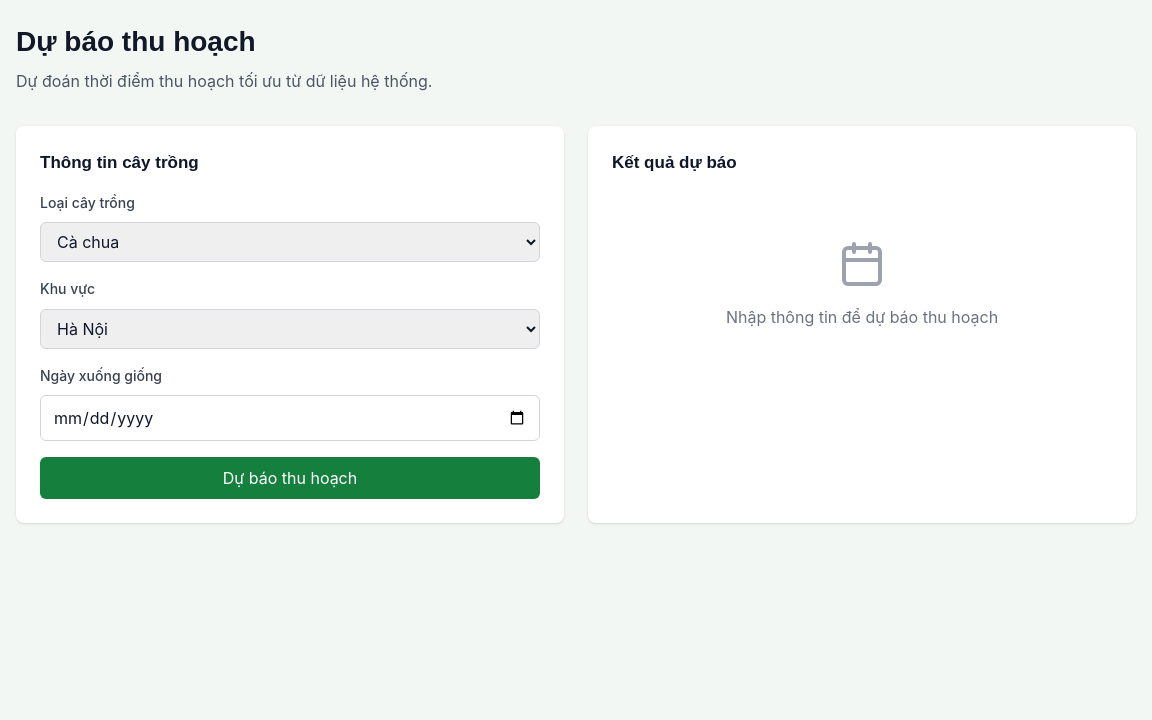
harvest forecast confidence › shows the confidence the backend reported
Type "2026-03-01" into the date field labelled "Ngày xuống giống".
click(290, 418); type("2026-03-01")  # box x1=40 y1=395 x2=540 y2=441
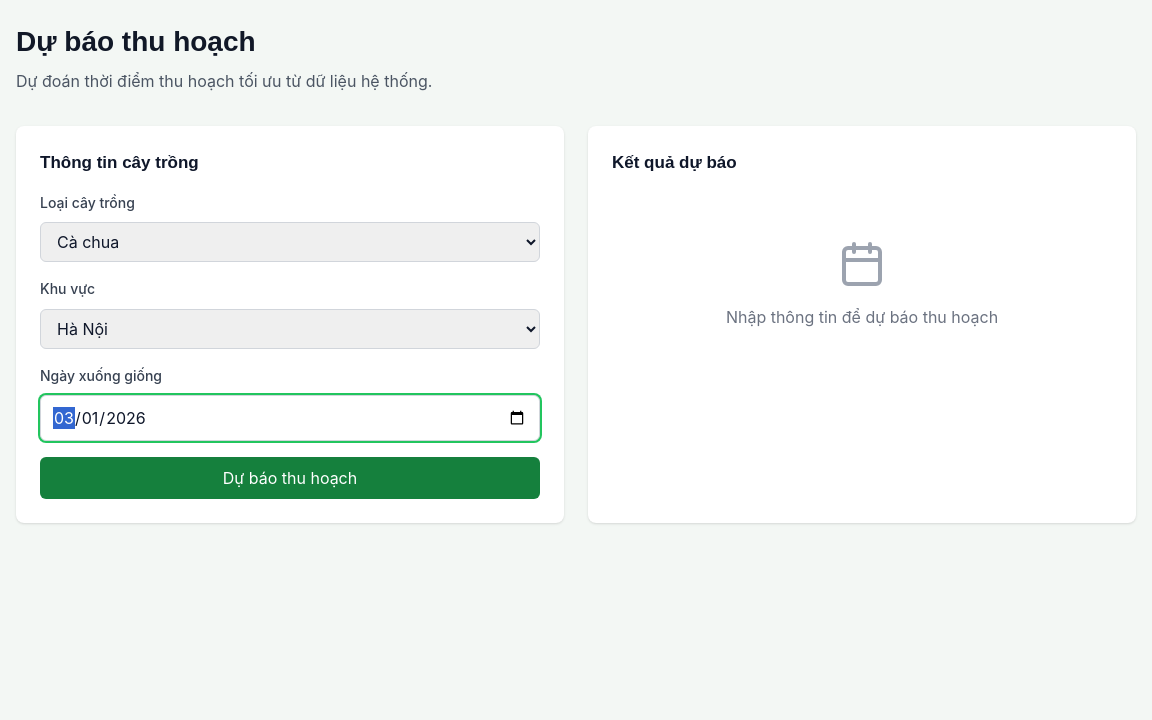
Click the button "Dự báo thu hoạch".
click(290, 478)  # box x1=40 y1=457 x2=540 y2=499
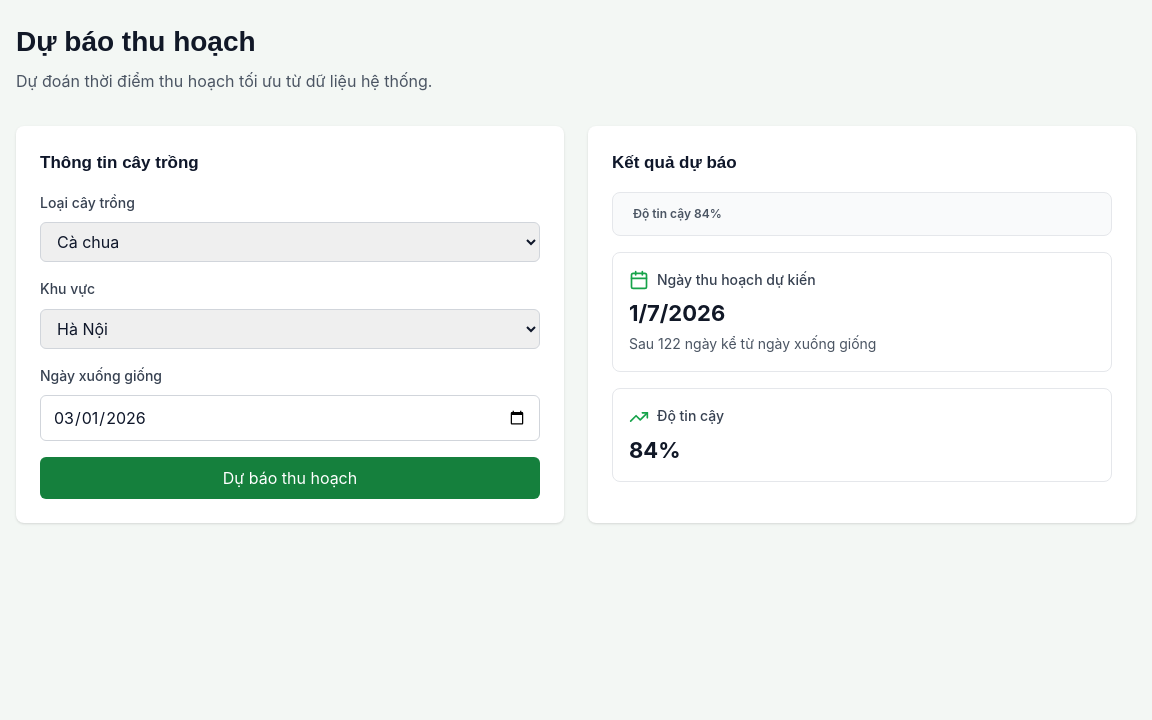
Now the text with test id "harvest-confidence" reads "84%", box x1=629 y1=437 x2=680 y2=463
